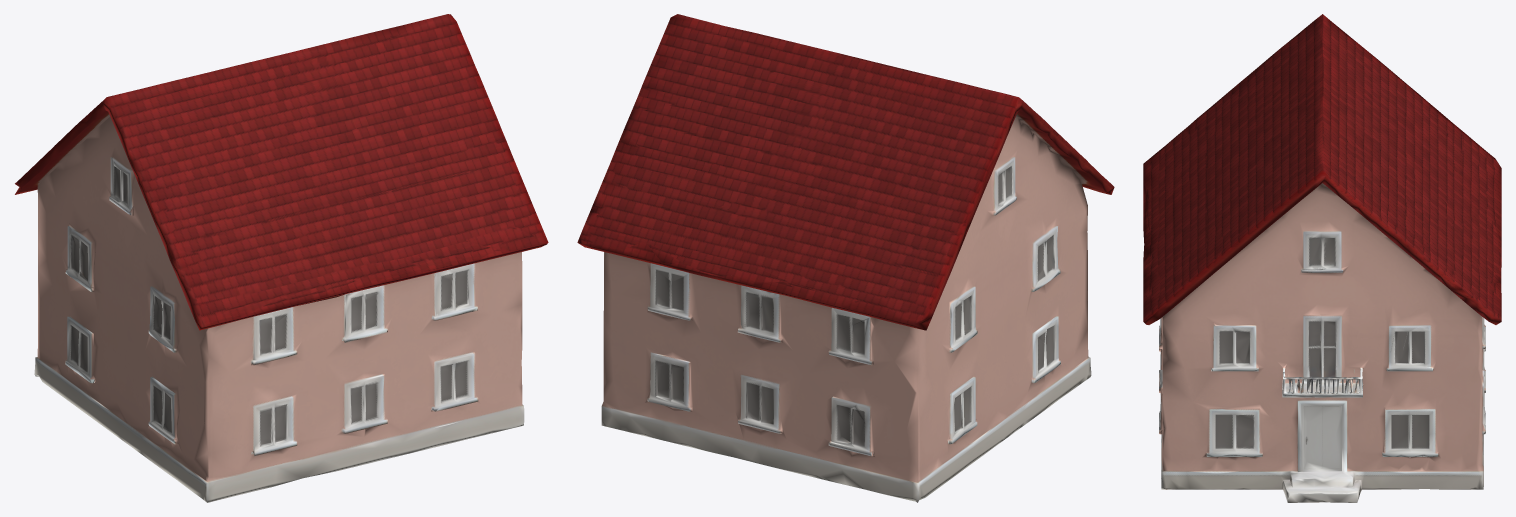
The model's file is plain_house_rose_tripo.glb.
3 views of the same model, side by side, from view 1: azimuth 30°, elevation 25°; view 2: azimuth 150°, elevation 25°; view 3: azimuth 270°, elevation 25° (orthographic). The views are drawn at different scales.
Visible parts, largest first — view 1: tripo_node_2316df93-e154-4cf4-af7c-0d45cd53c551; view 2: tripo_node_2316df93-e154-4cf4-af7c-0d45cd53c551; view 3: tripo_node_2316df93-e154-4cf4-af7c-0d45cd53c551.
Boxes of the visible parts, x1,y1,x2,y2 form: tripo_node_2316df93-e154-4cf4-af7c-0d45cd53c551: [15, 14, 548, 502]; tripo_node_2316df93-e154-4cf4-af7c-0d45cd53c551: [577, 14, 1114, 502]; tripo_node_2316df93-e154-4cf4-af7c-0d45cd53c551: [1143, 14, 1501, 502].
Size of the model in its own units: 0.98 by 0.8988 by 0.9001.
1 material, 1 textured.
